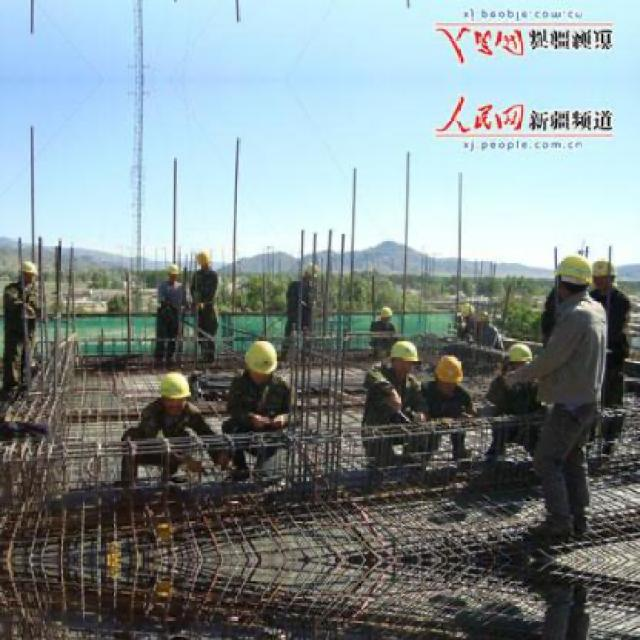helmet: (155, 369, 194, 414), (554, 252, 591, 298), (240, 335, 277, 380), (386, 340, 422, 382), (586, 255, 622, 292), (432, 352, 463, 394), (504, 341, 538, 377), (16, 260, 38, 289), (192, 248, 214, 274), (160, 263, 182, 285), (455, 300, 474, 323), (302, 260, 320, 282), (377, 302, 395, 323)
